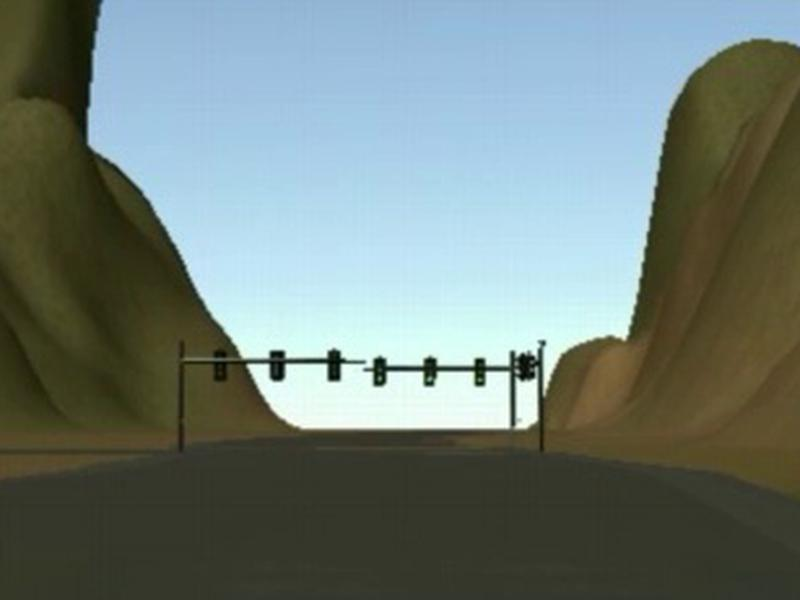Green: (423, 357, 438, 386), (374, 357, 386, 386), (474, 357, 486, 386)
